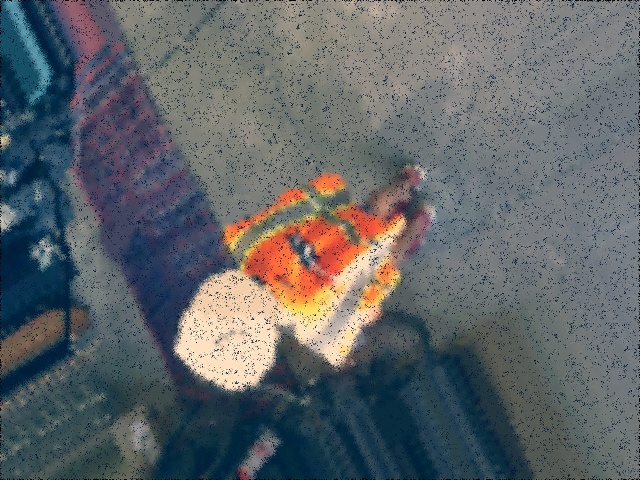eight: (202, 297, 259, 362)
